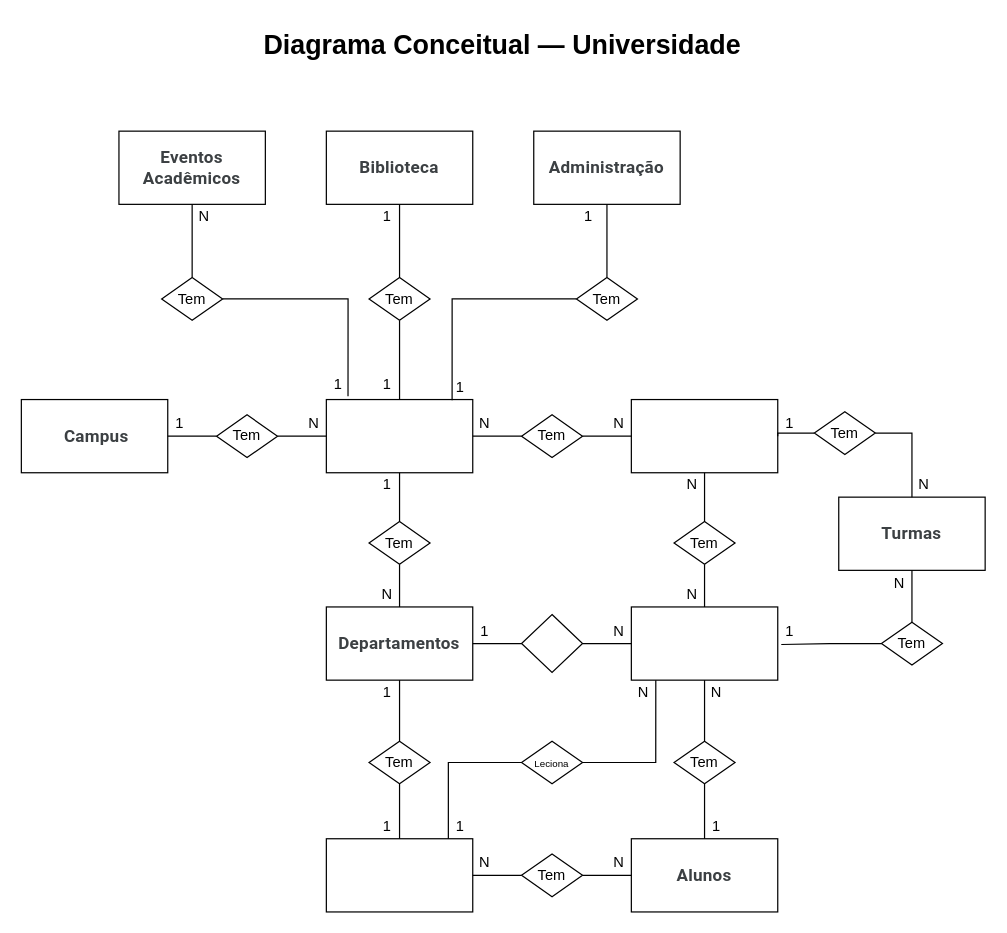
Some shapes in this 1007 by 933 pixel diagram are drawn without their labels. The centre of each missing label's shape, as x and y in pixels:
"Cursos" goes at point (704, 435).
"Disciplinas" goes at point (704, 643).
"Faculdades" goes at point (399, 435).
"Faz parte" goes at point (551, 642).
"Professores" goes at point (399, 875).
